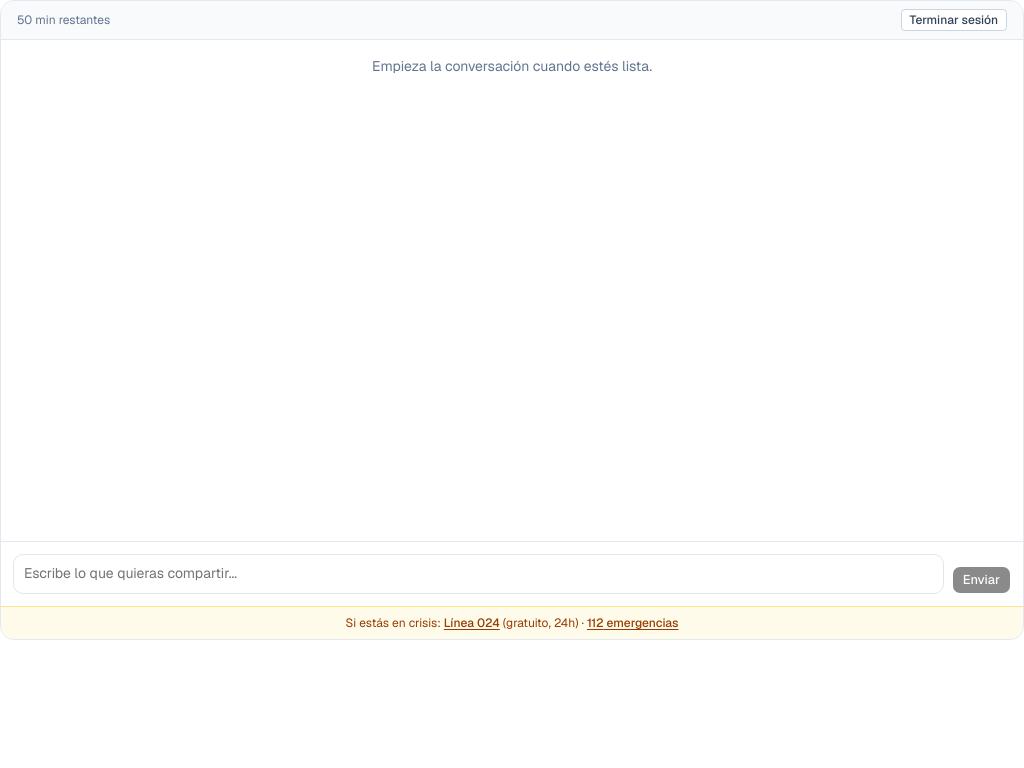
Test: transport failure before admission retains the original retry ID and text
Type "Nuevo texto conservado" into the text box. click: (478, 574)
box: [13, 554, 944, 594]
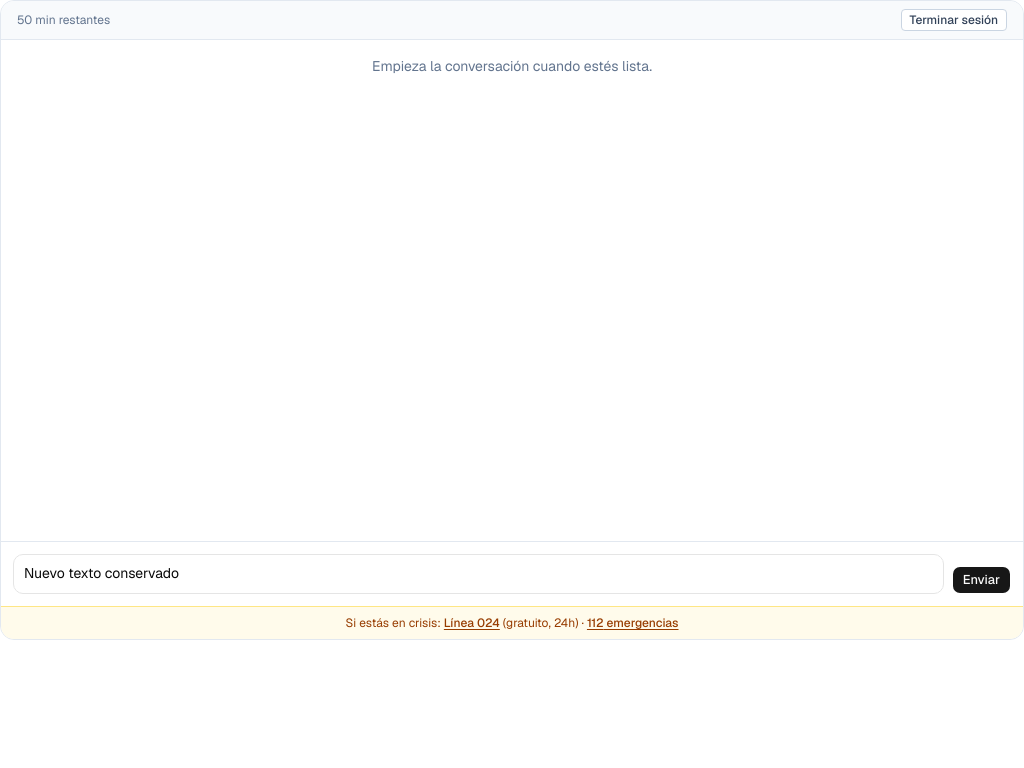
Click the button "Enviar". click: click(981, 580)
box: [952, 566, 1011, 594]
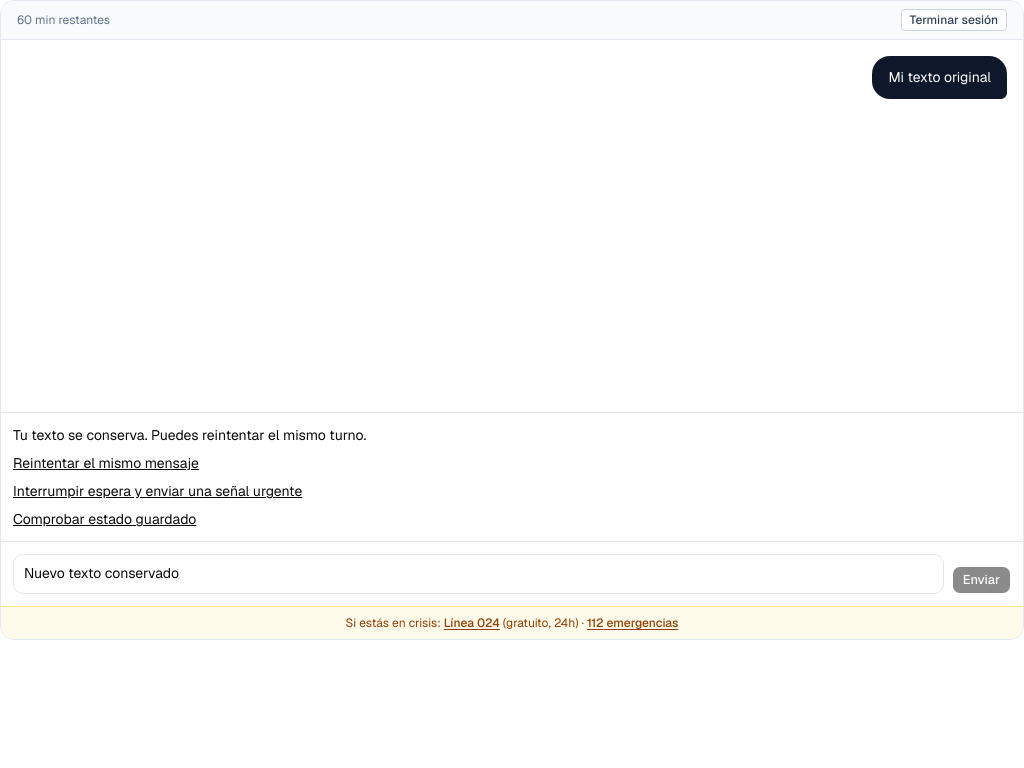
Result: the button "Reintentar el mismo mensaje" is shown
Click the button "Reintentar el mismo mensaje". click: click(106, 463)
box: [13, 453, 199, 473]
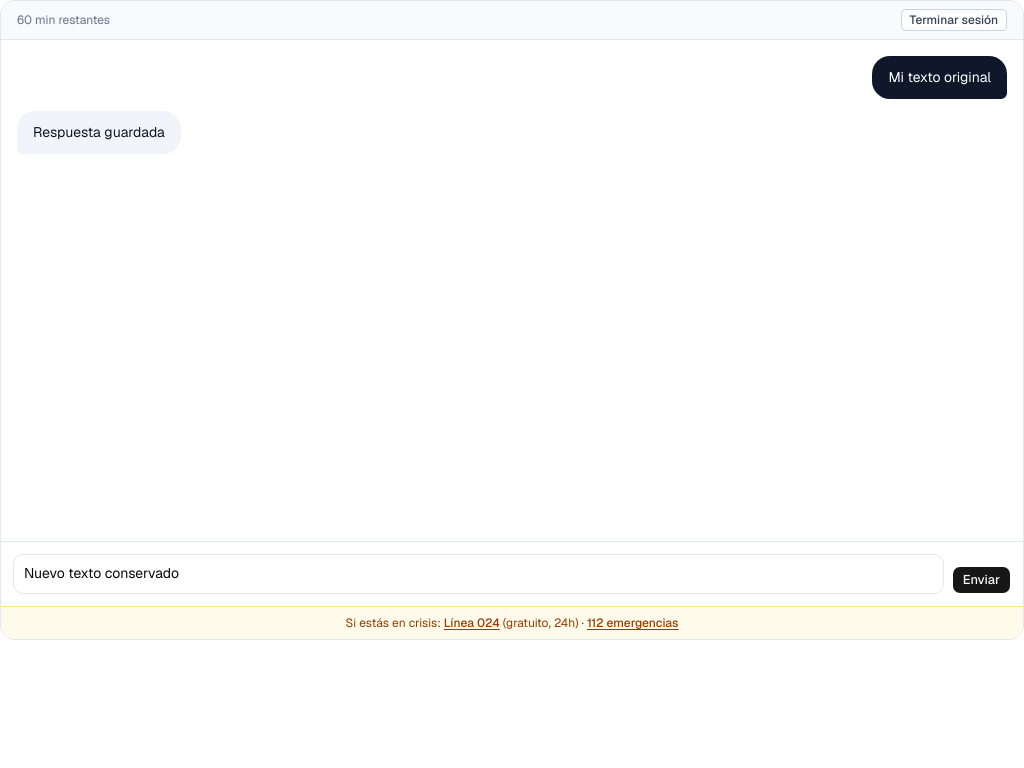
Result: the text "Respuesta guardada" is shown at [33, 123, 165, 141]
